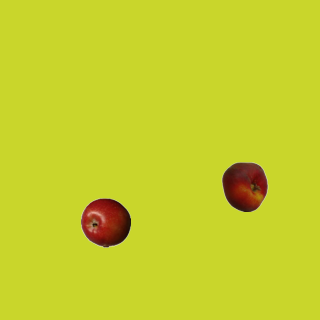Apple Braeburn: (80, 197, 130, 247)
Nectarine Flat: (219, 161, 269, 211)
